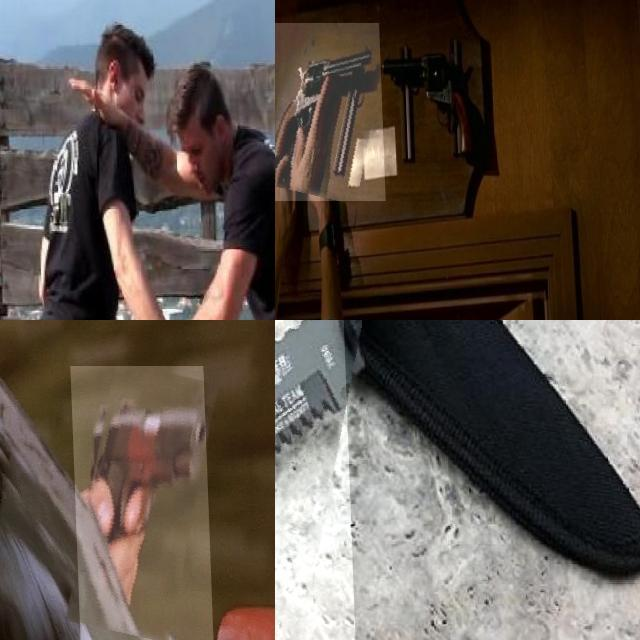-: (275, 320, 441, 640)
gun-knife-thesis - v11 Yolov5 augmented: (67, 366, 209, 640), (275, 22, 383, 201), (380, 18, 480, 181)
